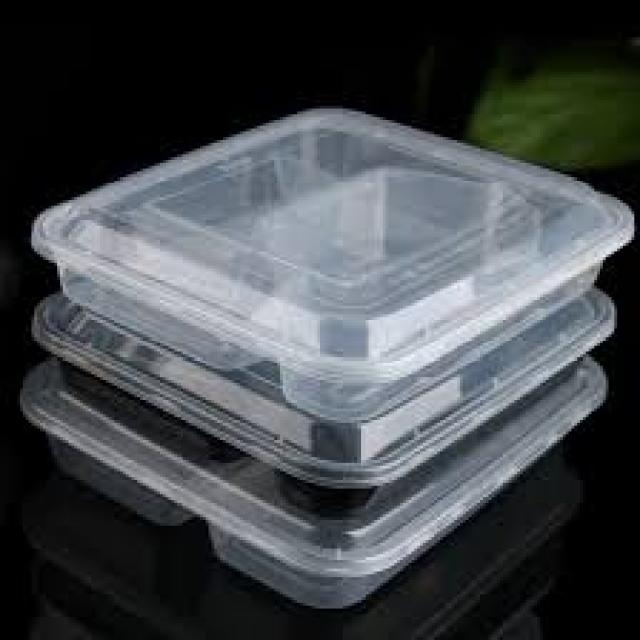disposable: (31, 94, 640, 426)
